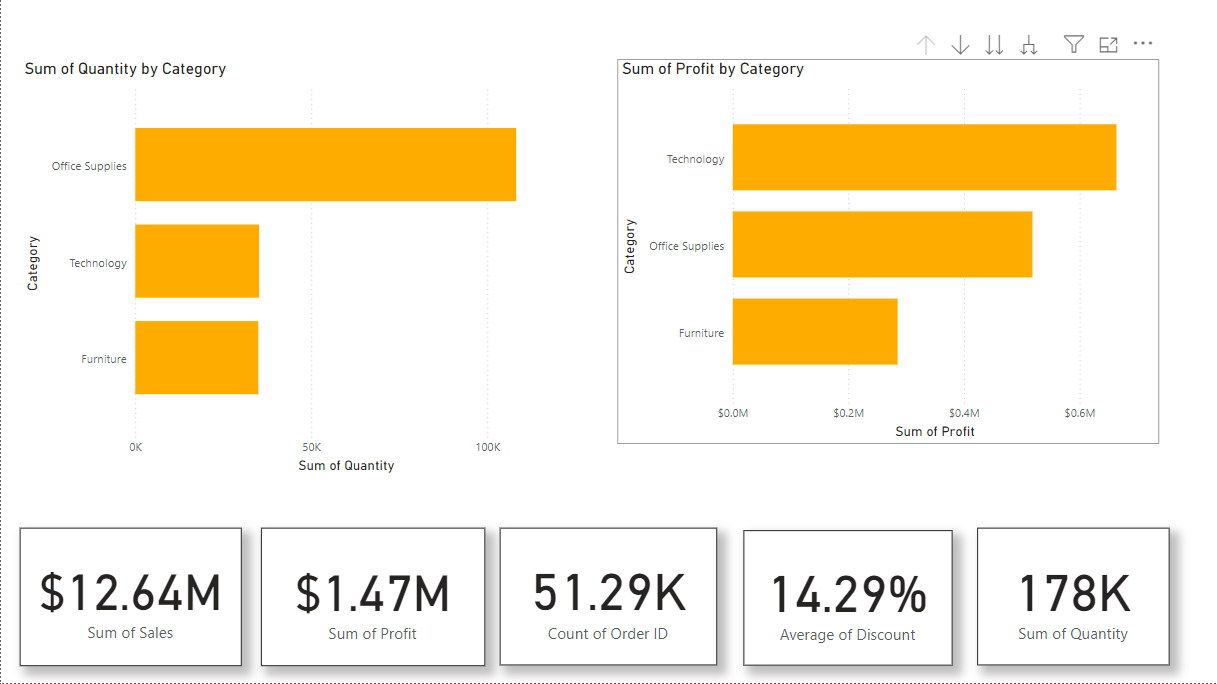

This screenshot's page, from the dashboard's own definition file:
{"tool":"powerbi","page":{"name":"Page 3","canvas":[1280,720],"ordinal":1},"visuals":[{"type":"card","fields":{"Values":["Sum(Orders.Sales)"]},"box":[19.6,556.4,233.6,145.5],"z":0},{"type":"card","fields":{"Values":["Sum(Orders.Profit)"]},"box":[273.7,557.2,235.8,146],"z":1000},{"type":"card","fields":{"Values":["Avg(Orders.Discount)"]},"box":[781.6,559.2,219.7,142.1],"z":2000},{"type":"card","fields":{"Values":["Sum(Orders.Quantity)"]},"box":[1027.6,556.6,202.6,144.7],"z":3000},{"type":"card","fields":{"Values":["CountNonNull(Orders.Order ID)"]},"box":[524.9,557.2,228.8,144.6],"z":4000},{"type":"clusteredBarChart","fields":{"Category":["Orders.Products.Category","Orders.Products.Sub-Category","Orders.Products.Product Name"],"Y":["Sum(Orders.Quantity)"]},"box":[19.7,63.2,585.5,440.8],"z":5000},{"type":"barChart","fields":{"Category":["Orders.Products.Category","Orders.Products.Sub-Category","Orders.Products.Product Name"],"Y":["Sum(Orders.Profit)"]},"box":[648.7,63.2,569.7,405.3],"z":6000}]}

Visuals, with their boxes in screenshot pixels (x1, y1, x2, y2), scaled from the page's 1280x720 canvas onto the 1217x684 screenshot:
card - Sum(Orders.Sales): 19,529,241,667
card - Sum(Orders.Profit): 260,529,484,668
card - Avg(Orders.Discount): 743,531,952,666
card - Sum(Orders.Quantity): 977,529,1170,666
card - CountNonNull(Orders.Order ID): 499,529,717,667
clusteredBarChart - Orders.Products.Category x Orders.Products.Sub-Category: 19,60,575,479
barChart - Orders.Products.Category x Orders.Products.Sub-Category: 617,60,1158,445
